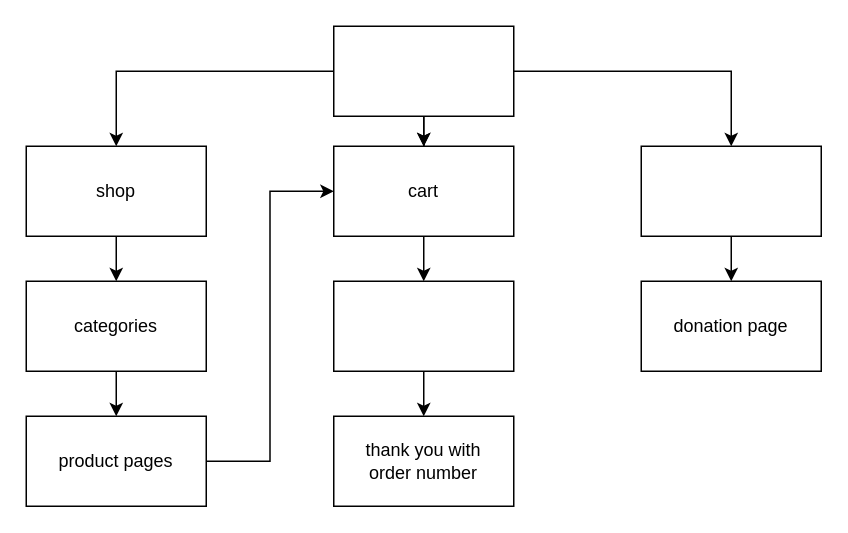
Image size: 848x533. Some labels were removed from this diagram. Each missing label, with the centre of its shape:
about me: the point at 730,190
checkout: the point at 423,325
home: the point at 423,70
